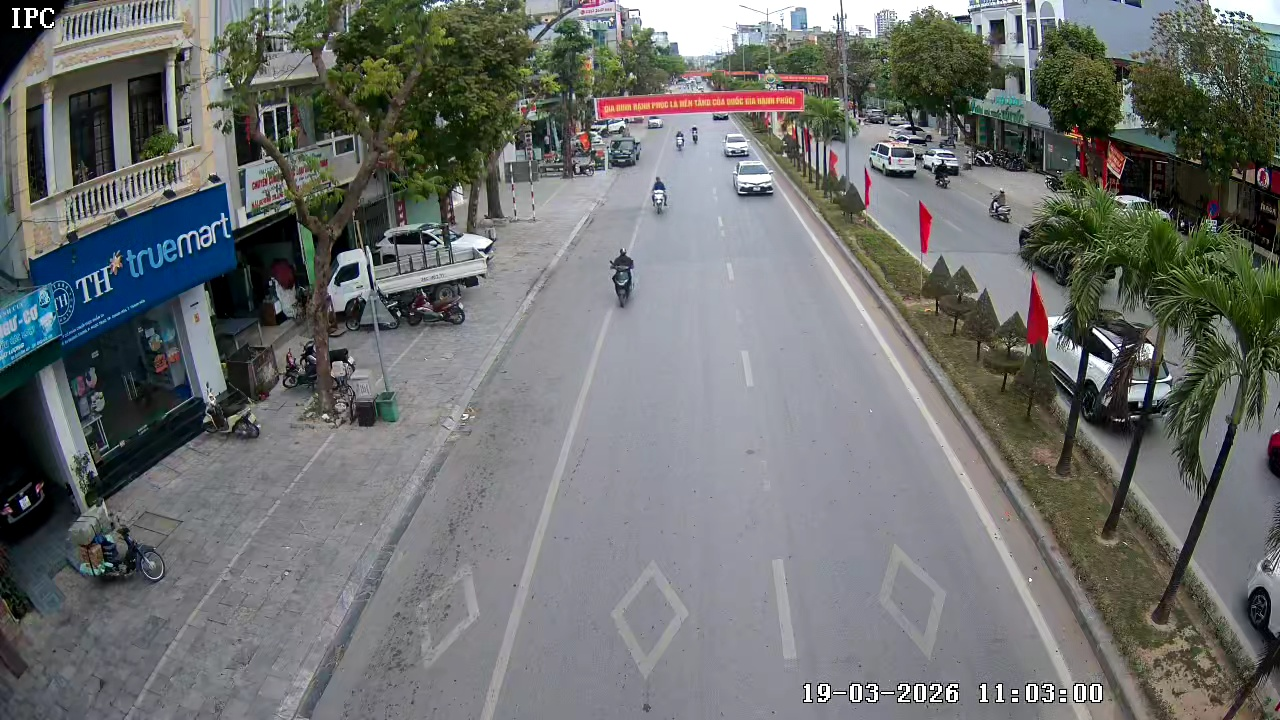car: (867, 139, 919, 177), (733, 158, 776, 198), (721, 131, 752, 161)
motorbike: (70, 501, 167, 585), (608, 246, 637, 309), (649, 173, 669, 216), (674, 127, 689, 151)
truck: (607, 132, 641, 168)
